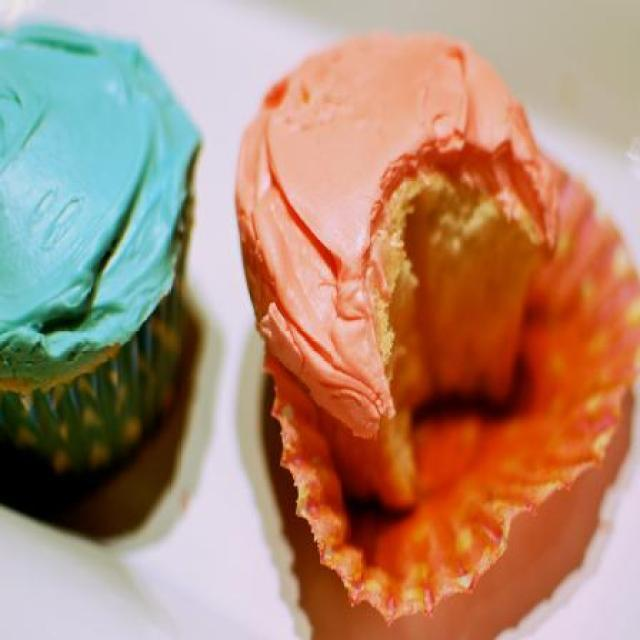Muffin: (229, 18, 556, 518), (0, 14, 203, 486)
